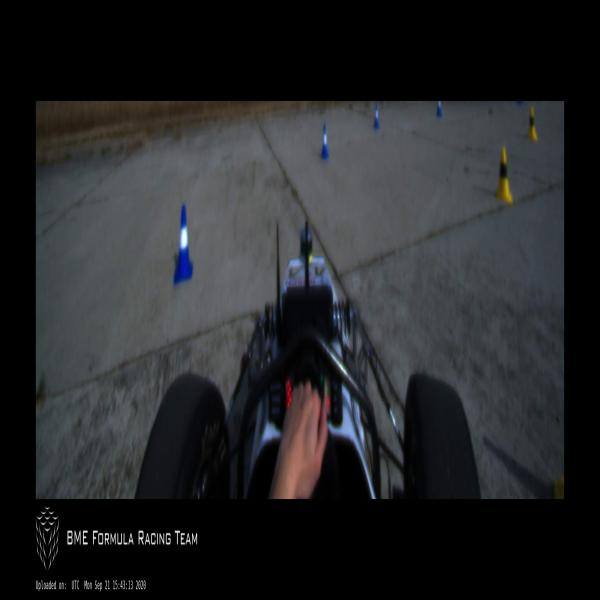blue_cone: (173, 206, 193, 284), (320, 124, 329, 160), (374, 102, 379, 128), (436, 102, 442, 117)
yellow_cone: (494, 146, 512, 206), (526, 105, 538, 143)
